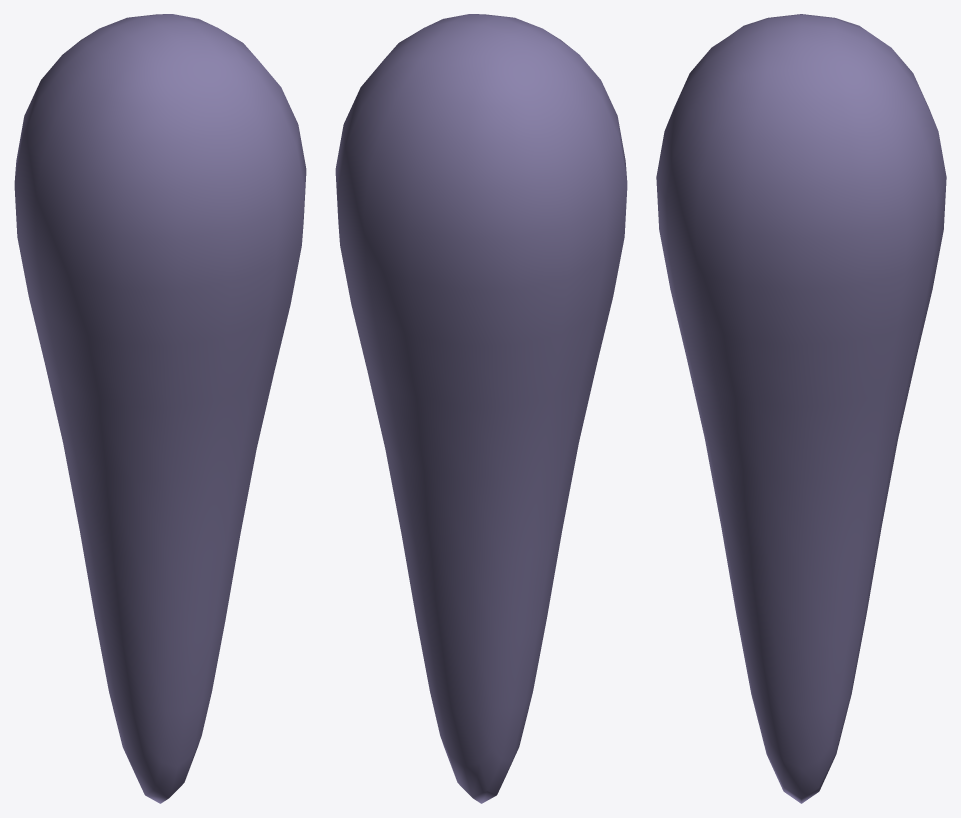
The model's file is Gras_01.fbx.
The picture shows the model from 3 angles, left to right: view 1: azimuth 30°, elevation 25°; view 2: azimuth 150°, elevation 25°; view 3: azimuth 270°, elevation 25°; orthographic projection.
Visible parts, largest first — view 1: Cube; view 2: Cube; view 3: Cube.
Boxes of the visible parts, x1,y1,x2,y2 form: Cube: [14, 14, 306, 803]; Cube: [335, 14, 627, 803]; Cube: [656, 14, 946, 803].
Size of the model in its own units: 71.79 by 212 by 71.79.
